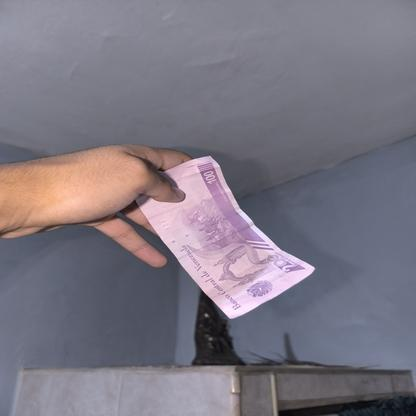one_hundred-back-vef: (134, 154, 316, 320)
